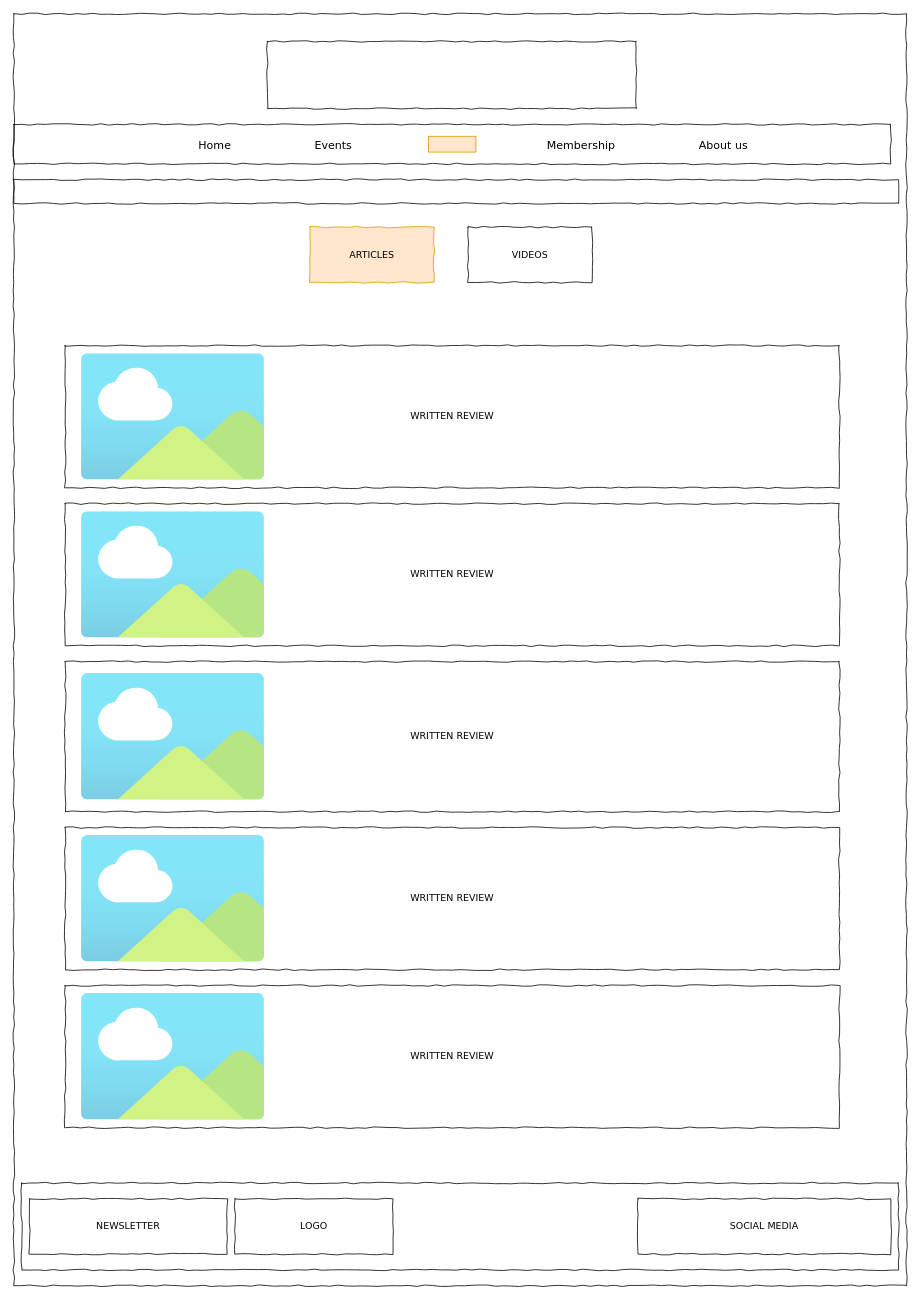
This 920x1300 diagram has some shape labels left out. Here are the shapes that lost their labels. From the top down, the box of each, then its label:
(267, 41, 636, 109): Anima Mundi Board Game Club
(428, 135, 476, 152): Reviews
(13, 179, 899, 203): COVID GUIDELINES
(21, 1182, 899, 1270): ADDRESS
